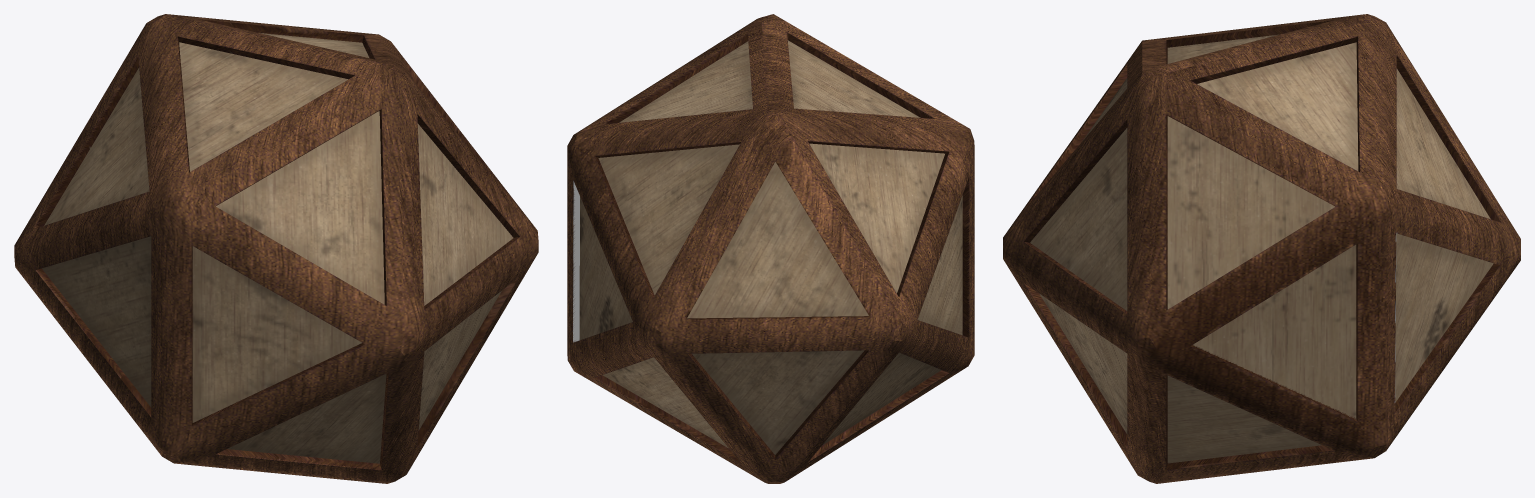
3 views of the same model, side by side, from view 1: azimuth 30°, elevation 25°; view 2: azimuth 150°, elevation 25°; view 3: azimuth 270°, elevation 25° (orthographic). The views are drawn at different scales.
Visible parts, largest first — view 1: polySurface4; view 2: polySurface4; view 3: polySurface4.
Boxes of the visible parts, <box> form: polySurface4: <box>14,14,538,483</box>; polySurface4: <box>567,14,974,483</box>; polySurface4: <box>1003,14,1520,483</box>.
Size of the model in its own units: 0.0374 by 0.0356 by 0.0409.
Materials: 1 (1 with a texture image).
